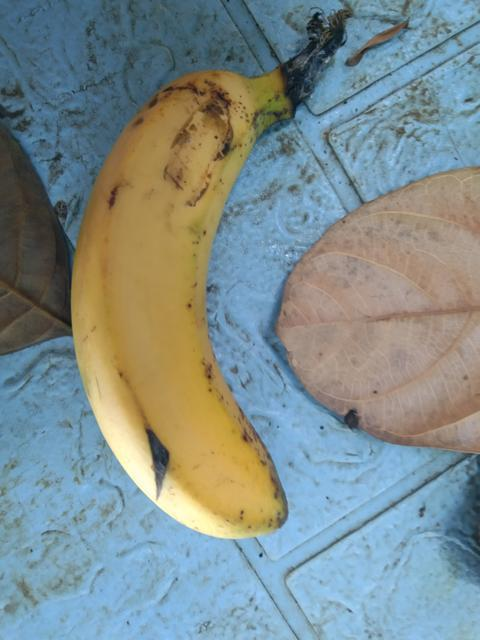ripe: (66, 55, 326, 572)
